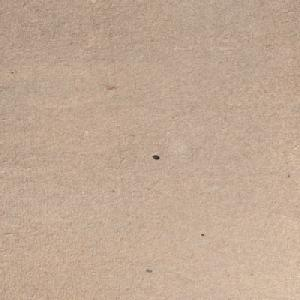Nut: (152, 154, 159, 158)
